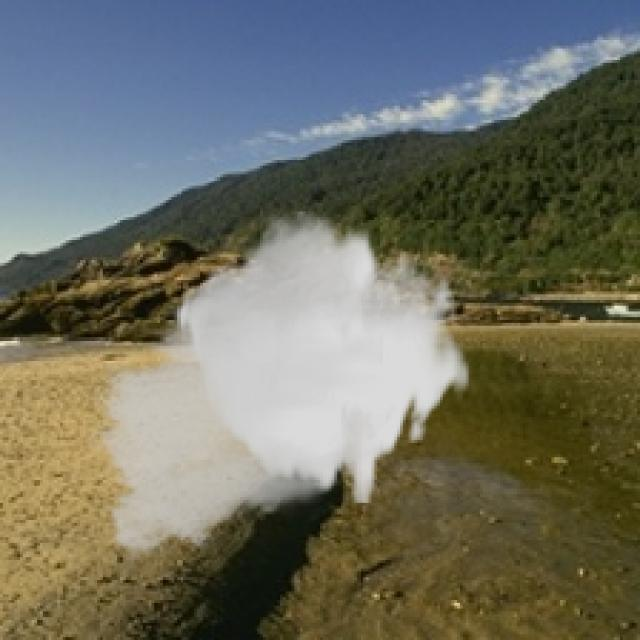smoke: (86, 212, 471, 572)
